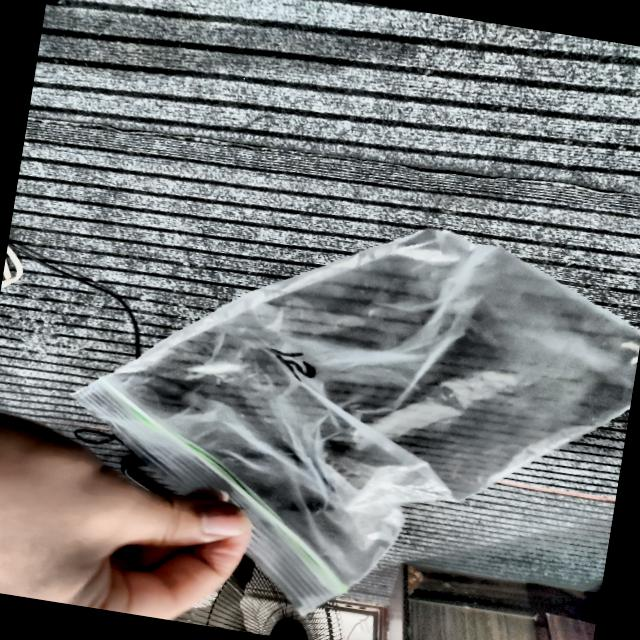plastic bag: (76, 229, 640, 612)
